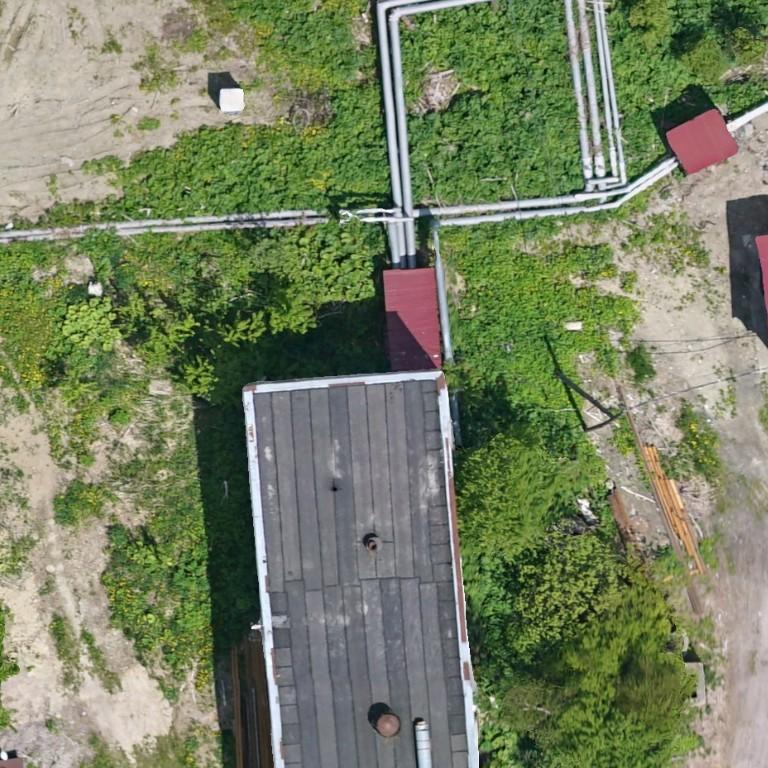hogweed: (42, 83, 390, 224), (398, 0, 584, 202), (441, 215, 632, 410), (606, 13, 767, 181)
